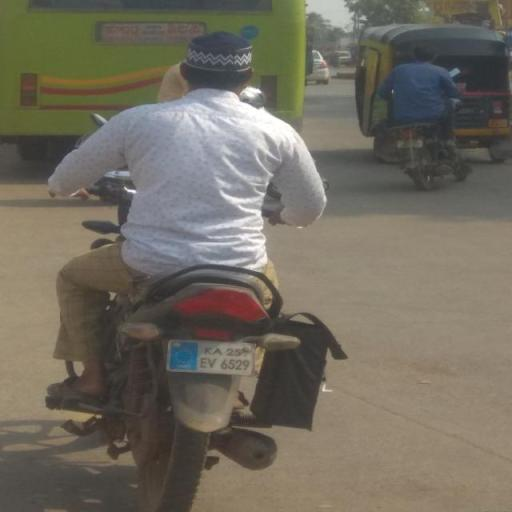bike: (36, 25, 348, 512)
numberplate: (166, 334, 254, 378)
withouthelmet: (184, 30, 254, 89)
